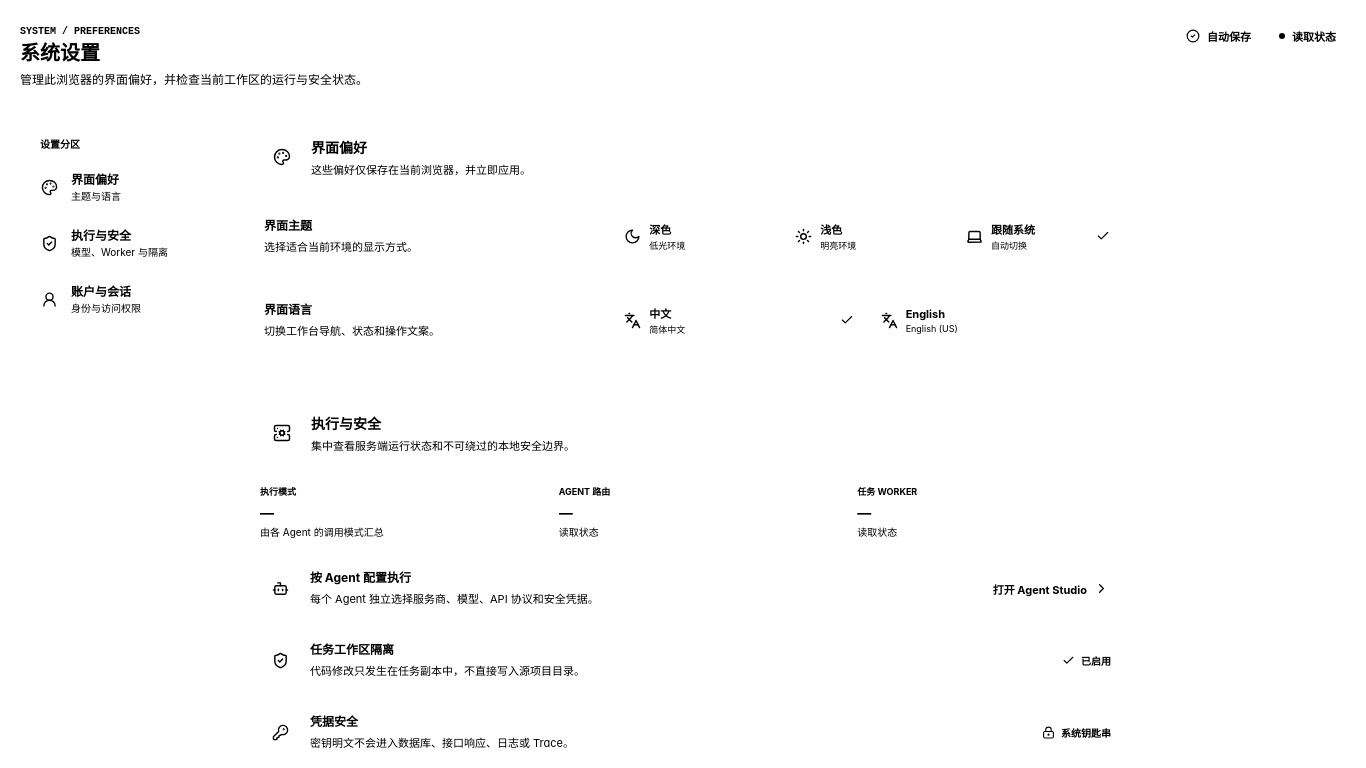
Test: SettingsPage › applies a theme immediately and reports browser persistence
Click the radio button labelled "深色 低光环境".
click(696, 236)  # box [614, 210, 778, 262]
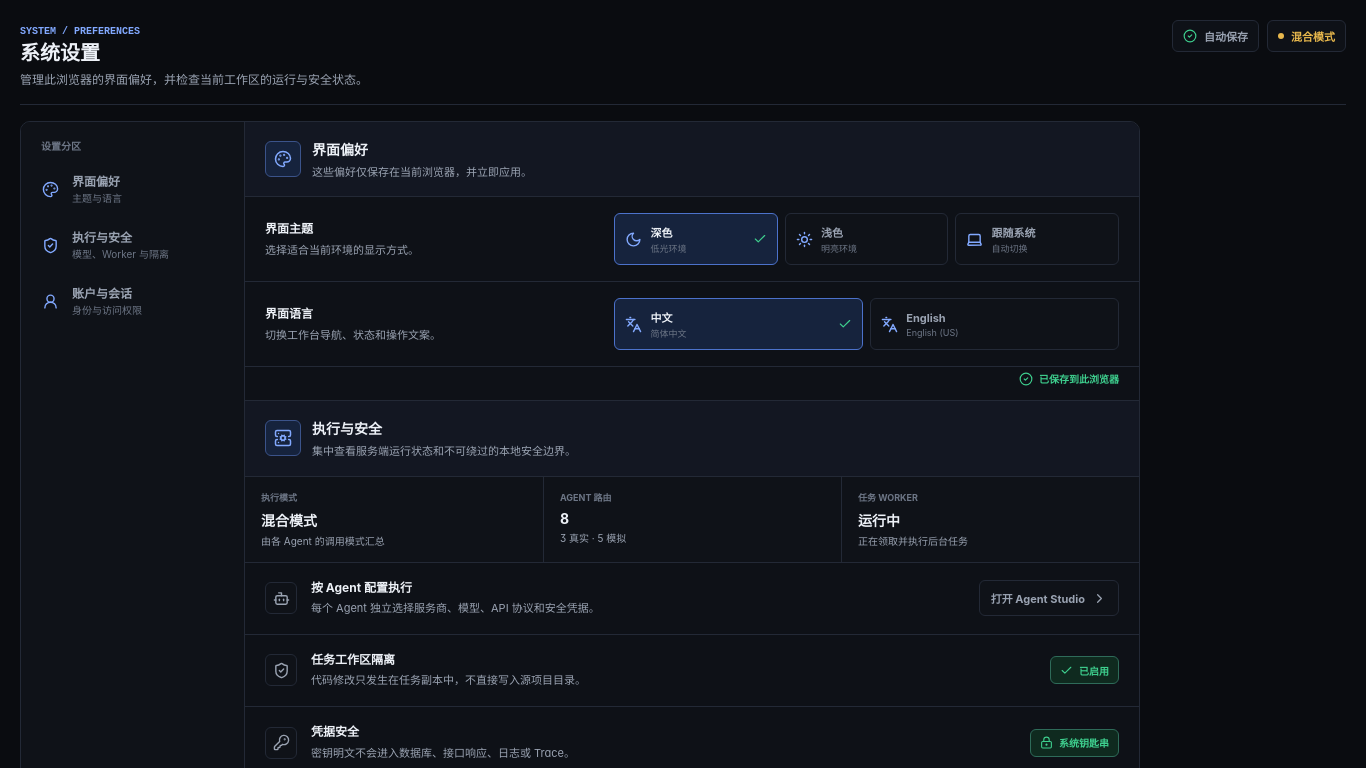
Result: the text "已保存到此浏览器" is shown at [1019, 371, 1119, 386]
